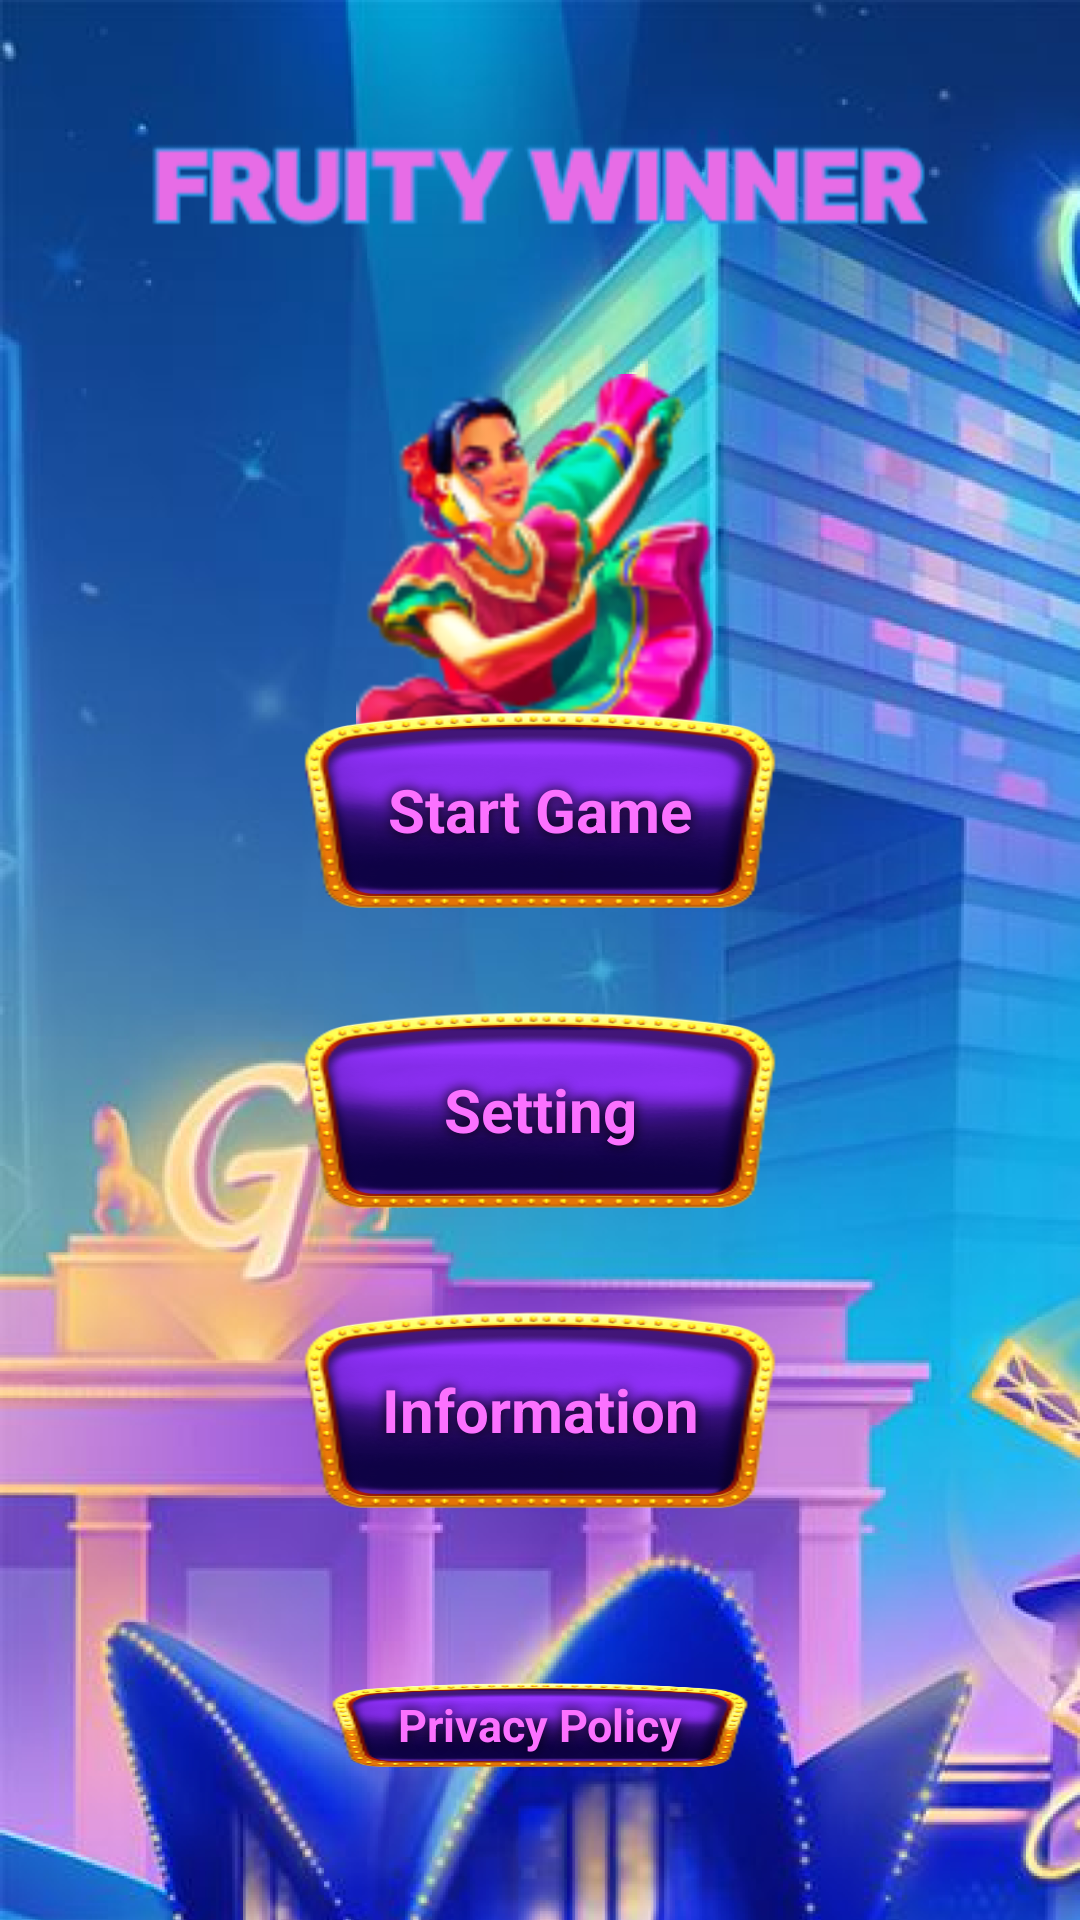

Icons on this 1080px×1920px Android screen, each with the point to tap as (x=x, y=y):
character: (x=536, y=554)
